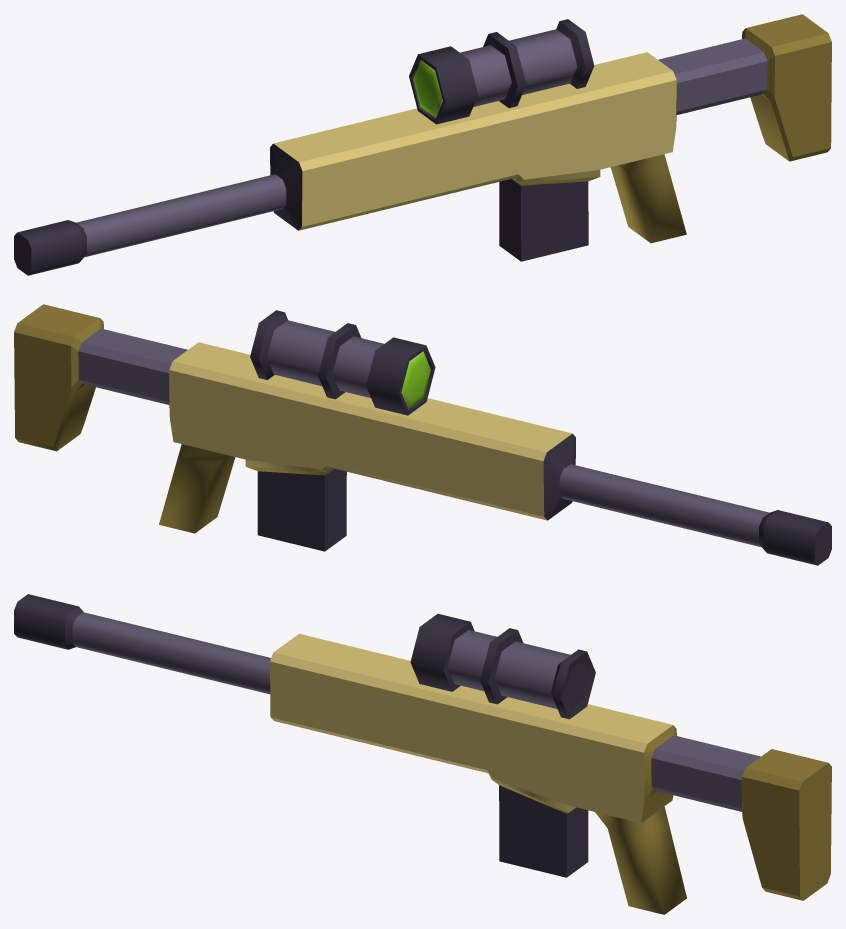
The model's file is Sniper.fbx.
3 renders of one model, top to bottom at view 1: azimuth 30°, elevation 25°; view 2: azimuth 150°, elevation 25°; view 3: azimuth 330°, elevation 25°, orthographic.
Parts seen in each view (by area): view 1: Sniper_Gun_01a; view 2: Sniper_Gun_01a; view 3: Sniper_Gun_01a.
Part boxes in pixels (<box>): Sniper_Gun_01a: <box>14,14,831,275</box>; Sniper_Gun_01a: <box>14,304,831,565</box>; Sniper_Gun_01a: <box>14,594,831,914</box>.
Bounding box in the file's own units: 163 × 44.75 × 14.06.
